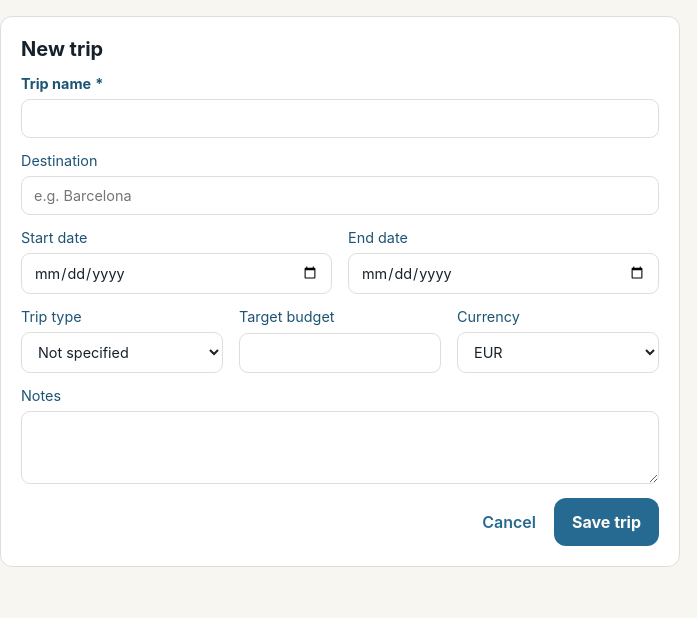
Test: TripForm › rejects incomplete date ranges before saving
The image size is (697, 618).
Type "Rome" into the field labelled "Trip name".
click(340, 118); type("Rome")  # box [21,99,659,138]
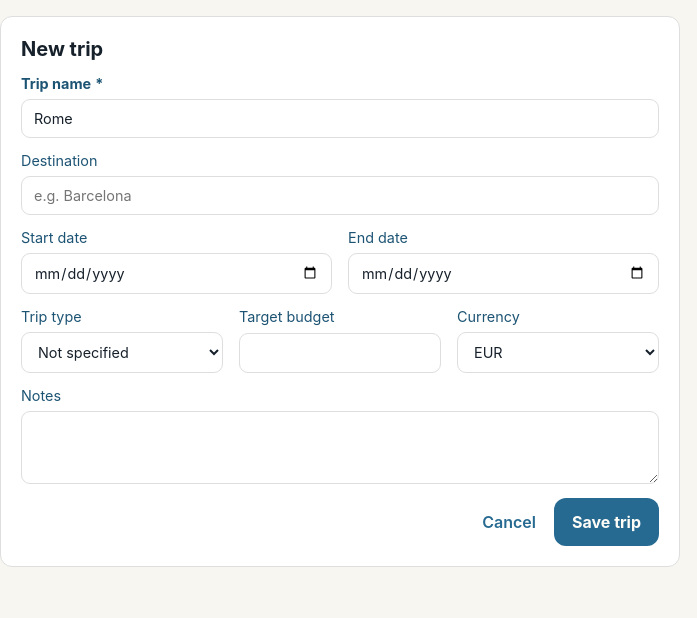
Type "2026-09-01" into the date field labelled "Start date".
click(176, 274); type("2026-09-01")  # box [21,253,332,294]
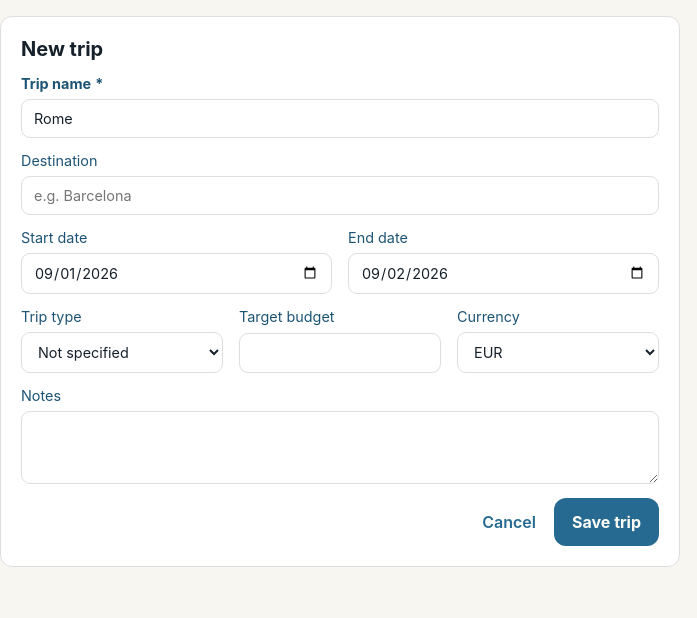
Clear the date field labelled "End date" at (504, 274), box [348,253,659,294]
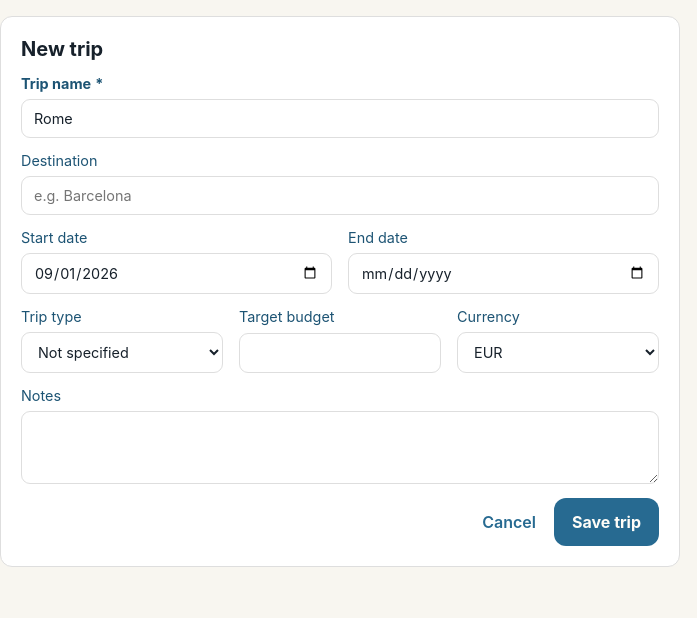
Submit the form named "Save trip"
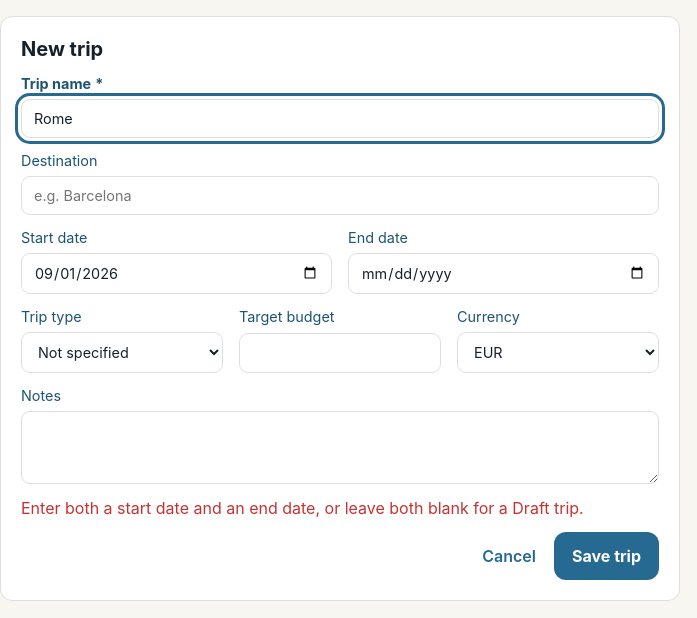
expect the text "Enter both a start date" is shown: met, box [21,498,584,518]
